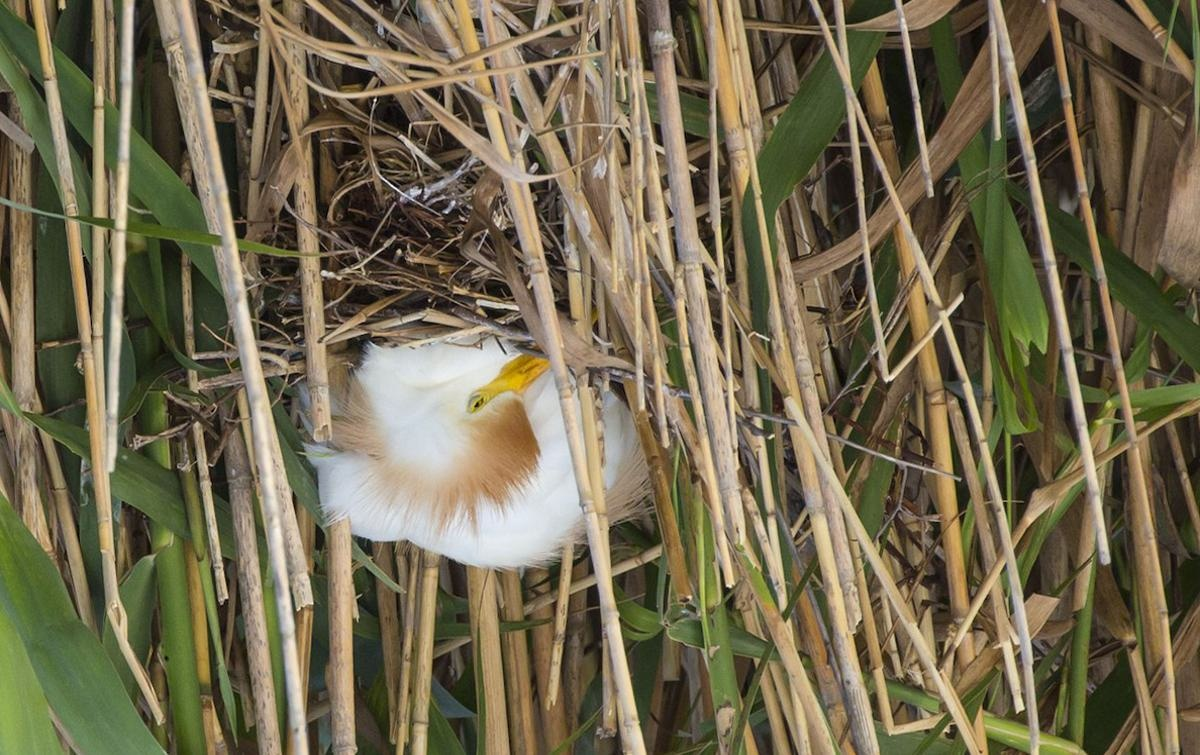egret: (299, 338, 666, 578)
